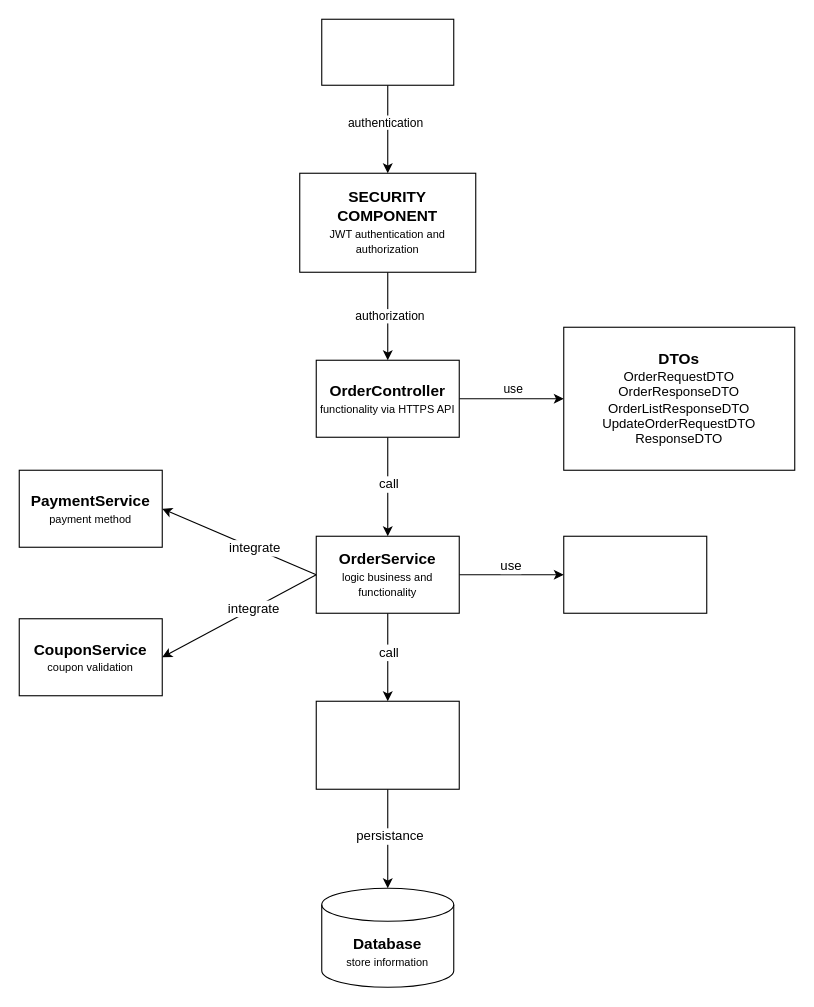
Image size: 814x1007. Some labels were removed from this diagram. Each missing label, with the box of its shape:
CLIENT HTTP Request: (321, 18, 454, 85)
OrderRepository CRUD operations: (315, 700, 459, 789)
OrderStatus enum for order status: (563, 535, 707, 613)
